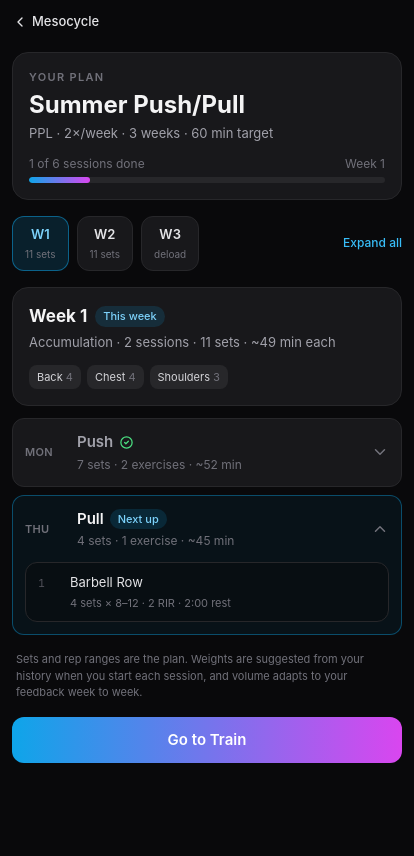
Test case: MesocyclePlanPage › switches weeks and flags the deload week
Click the button "W3 deload".
click(170, 243)  # box [141,216,199,270]
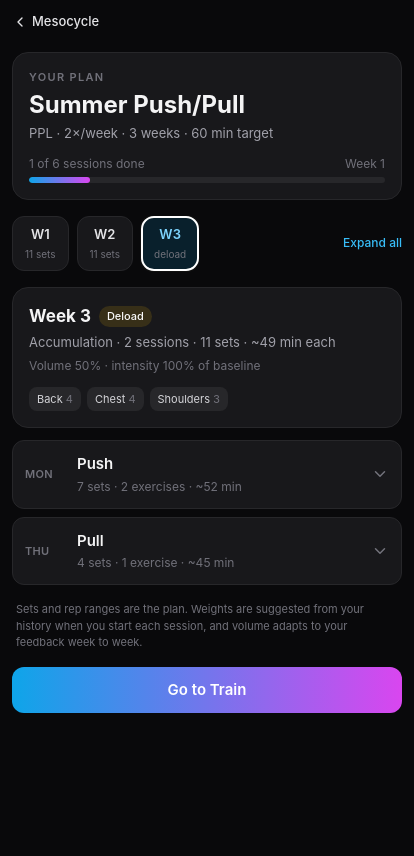
Expected: the heading "Week 3" is shown, [29,304,91,329]
Expected: the text "Deload" is shown, [99,306,152,326]
Expected: the text "Volume 50% · intensity 100% of baseline" is shown, [29,358,260,372]
